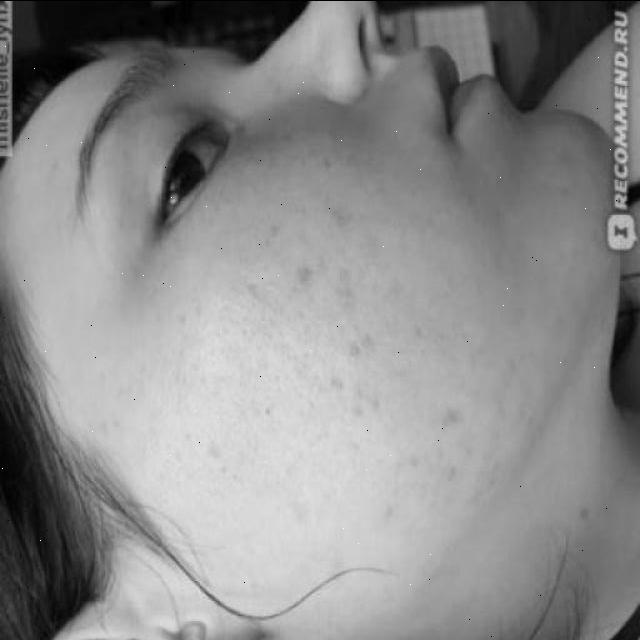Acne: (260, 214, 465, 496)
